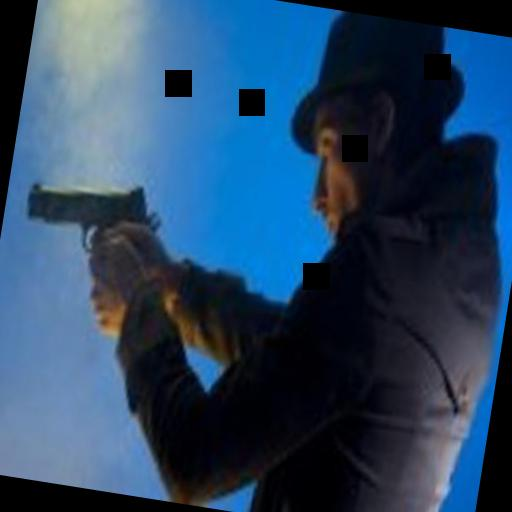Handgun: (4, 149, 184, 323)
